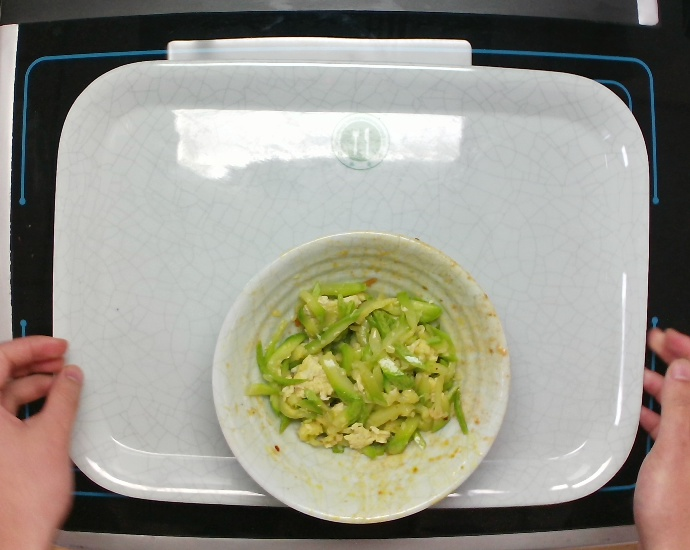JYsf-Xiao_Tang_Wan: (207, 232, 511, 527)
